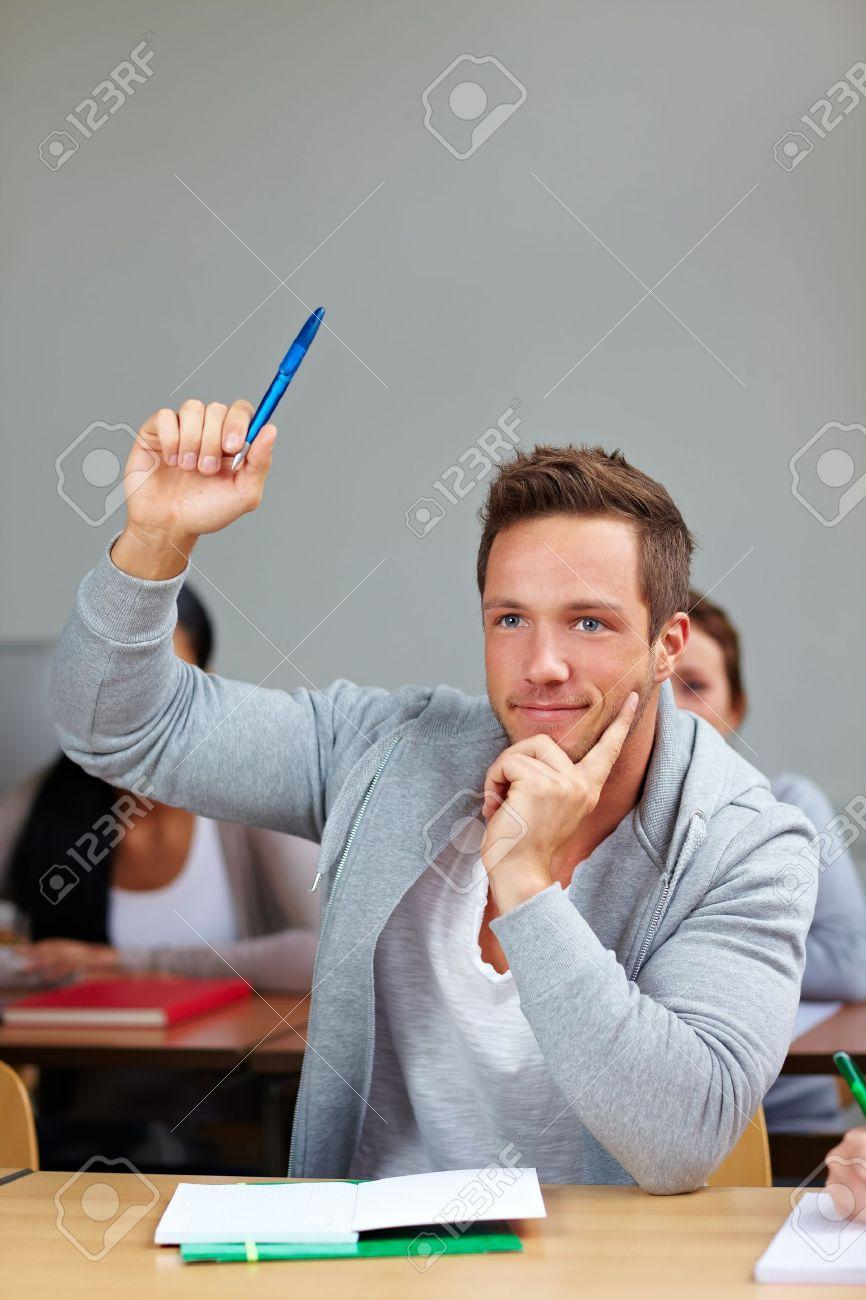study: (44, 307, 820, 1193)
